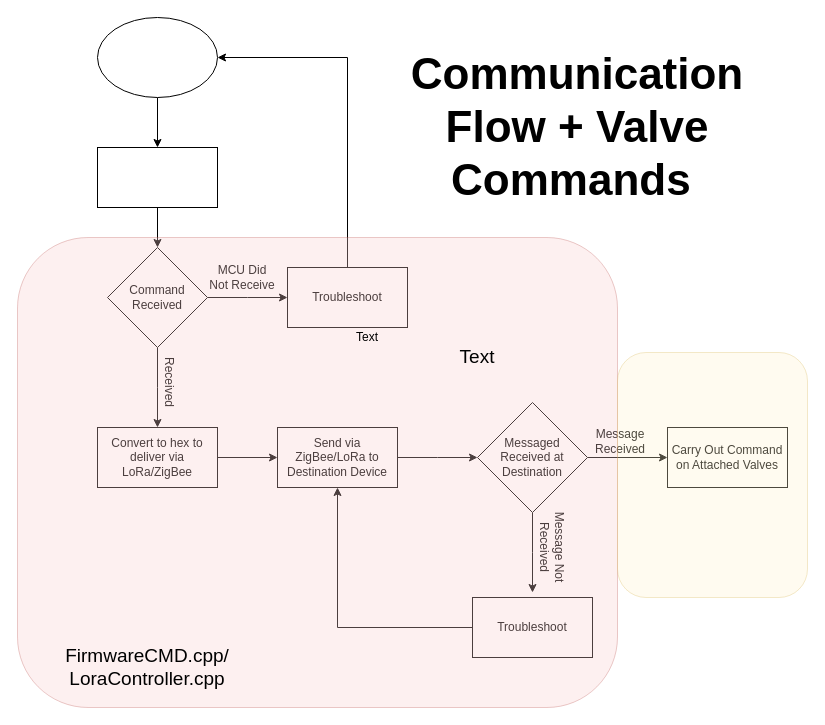
This 825x725 diagram has some shape labels left out. Here are the shapes that lost their labels. From the top down, the centre of each, then its label:
the point at 157,57: User/Automated Command Inputs
the point at 157,177: Send command via Serial Port to Central Node
the point at 712,475: ValveCommand.cpp
